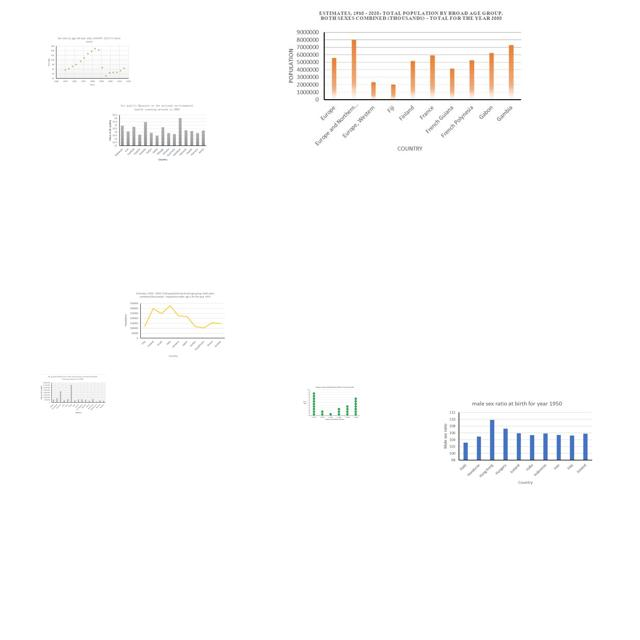Graph: (284, 8, 526, 153), (438, 397, 596, 490), (122, 291, 228, 360), (106, 102, 208, 163), (45, 36, 132, 87), (39, 374, 107, 415), (302, 385, 361, 422)
